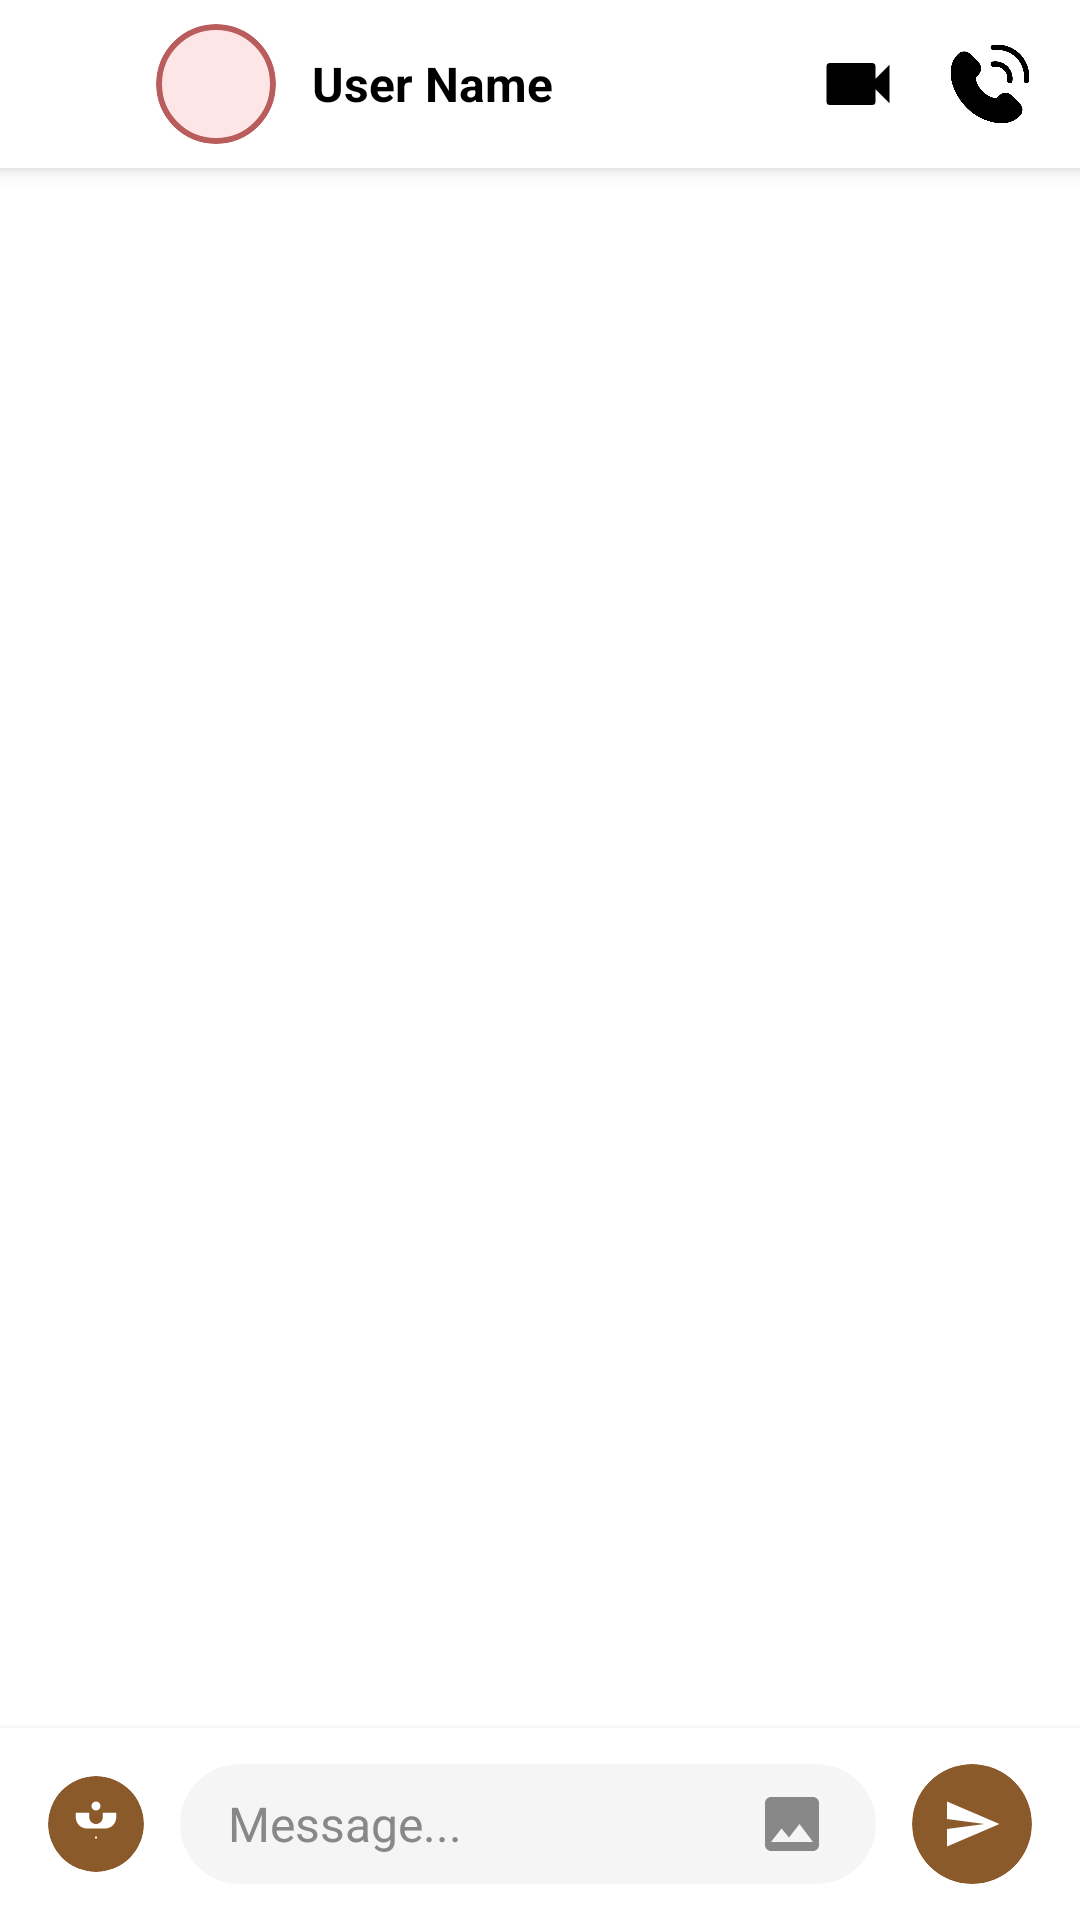

Icon click points for this 1080px x 1920px phone screenshot, format (x,y):
gallery: (792,1824)
send: (973,1824)
video call: (858,84)
voice call: (990,84)
